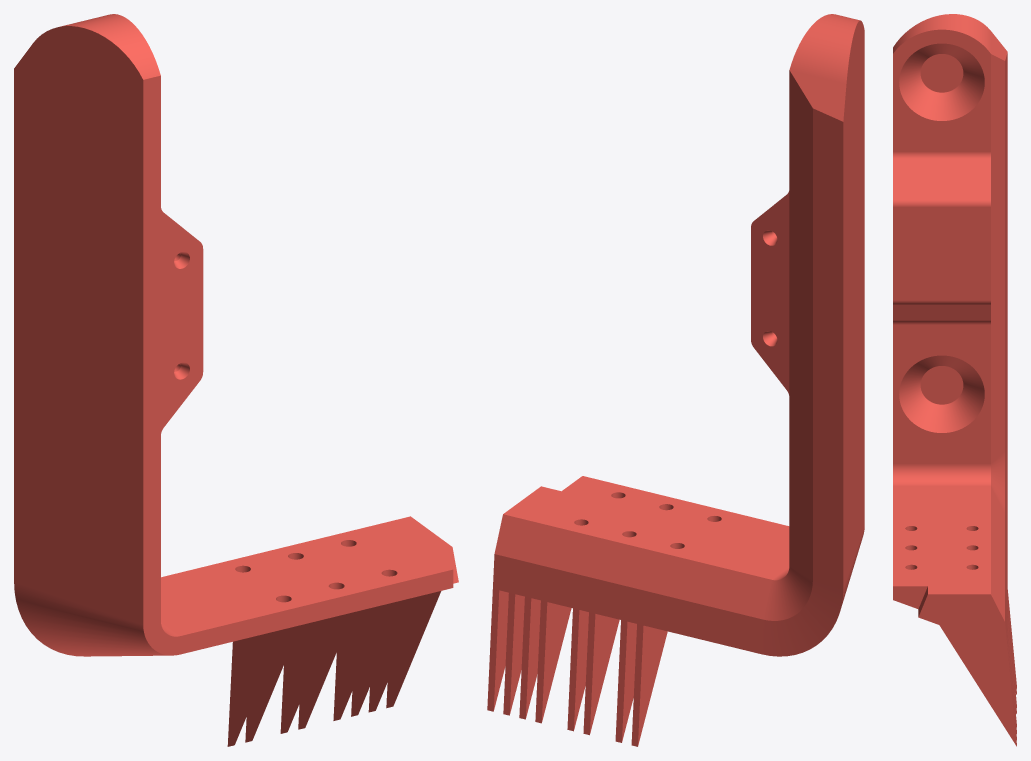
Rendered from MBMK3_Right_Wheel_Guard.gltf.
The picture shows the model from 3 angles, left to right: view 1: azimuth 30°, elevation 25°; view 2: azimuth 150°, elevation 25°; view 3: azimuth 270°, elevation 25°; orthographic projection. The views are drawn at different scales.
Visible parts, largest first — view 1: mesh2965, mesh2987, mesh3000, mesh2967, mesh3049, mesh2968, mesh3021, mesh3029, mesh2999, mesh3036, mesh3028, mesh3044 (+9 smaller); view 2: mesh2964, mesh3000, mesh2969, mesh2962, mesh2965, mesh3037, mesh2980, mesh2963, mesh2968, mesh2961, mesh2966, mesh3021 (+15 smaller); view 3: mesh3000, mesh2973, mesh2959, mesh2996, mesh2977, mesh2969, mesh2975, mesh2958, mesh2978, mesh2960, mesh2971, mesh2962 (+13 smaller).
Boxes of the visible parts, left/top/right/bottom form: mesh2965: left=14, top=26, right=143, bottom=624; mesh2987: left=143, top=75, right=453, bottom=655; mesh3000: left=161, top=516, right=452, bottom=635; mesh2967: left=14, top=582, right=168, bottom=656; mesh3049: left=227, top=631, right=275, bottom=746; mesh2968: left=59, top=14, right=160, bottom=79; mesh3021: left=333, top=605, right=381, bottom=720; mesh3029: left=280, top=618, right=328, bottom=733; mesh2999: left=386, top=592, right=433, bottom=707; mesh3036: left=245, top=627, right=293, bottom=741; mesh3028: left=298, top=614, right=345, bottom=728; mesh3044: left=351, top=601, right=398, bottom=716; mesh2964: left=813, top=108, right=843, bottom=588; mesh3000: left=503, top=476, right=789, bottom=579; mesh2969: left=789, top=70, right=812, bottom=579; mesh2962: left=494, top=514, right=771, bottom=619; mesh2965: left=843, top=20, right=864, bottom=587; mesh3037: left=493, top=554, right=763, bottom=654; mesh2980: left=751, top=191, right=789, bottom=395; mesh2963: left=761, top=580, right=843, bottom=656; mesh2968: left=789, top=14, right=859, bottom=83; mesh2961: left=763, top=566, right=812, bottom=620; mesh2966: left=789, top=70, right=846, bottom=121; mesh3021: left=542, top=602, right=571, bottom=721; mesh3000: left=893, top=486, right=990, bottom=594; mesh2973: left=893, top=207, right=990, bottom=300; mesh2959: left=893, top=325, right=990, bottom=463; mesh2996: left=918, top=594, right=1016, bottom=746; mesh2977: left=893, top=29, right=990, bottom=151; mesh2969: left=991, top=54, right=1004, bottom=462; mesh2975: left=893, top=158, right=990, bottom=200; mesh2958: left=899, top=355, right=984, bottom=432; mesh2978: left=899, top=43, right=984, bottom=120; mesh2960: left=893, top=463, right=990, bottom=485; mesh2971: left=893, top=305, right=990, bottom=320; mesh2962: left=991, top=486, right=1004, bottom=621.
Bounding box in the file's own units: 0.1094 × 0.217 × 0.0405.
